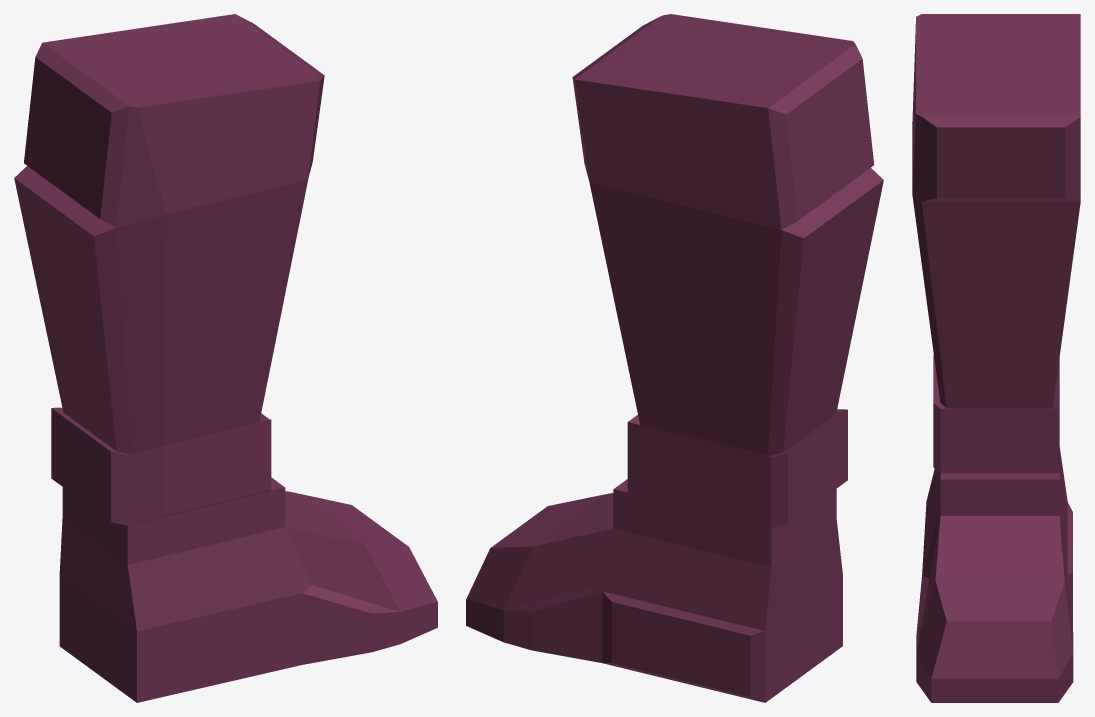
Rendered from migiashi.obj.
The picture shows the model from 3 angles, left to right: view 1: azimuth 30°, elevation 25°; view 2: azimuth 150°, elevation 25°; view 3: azimuth 270°, elevation 25°; orthographic projection. The views are drawn at different scales.
Parts seen in each view (by area): view 1: pCube8 pCube9; view 2: pCube8 pCube9; view 3: pCube8 pCube9.
Boxes of the visible parts, x1,y1,x2,y2 form: pCube8 pCube9: (14,14,437,702); pCube8 pCube9: (466,14,883,702); pCube8 pCube9: (912,14,1080,702).
Size of the model in its own units: 0.9872 by 1.64 by 0.4571.
1 material, 1 textured.
